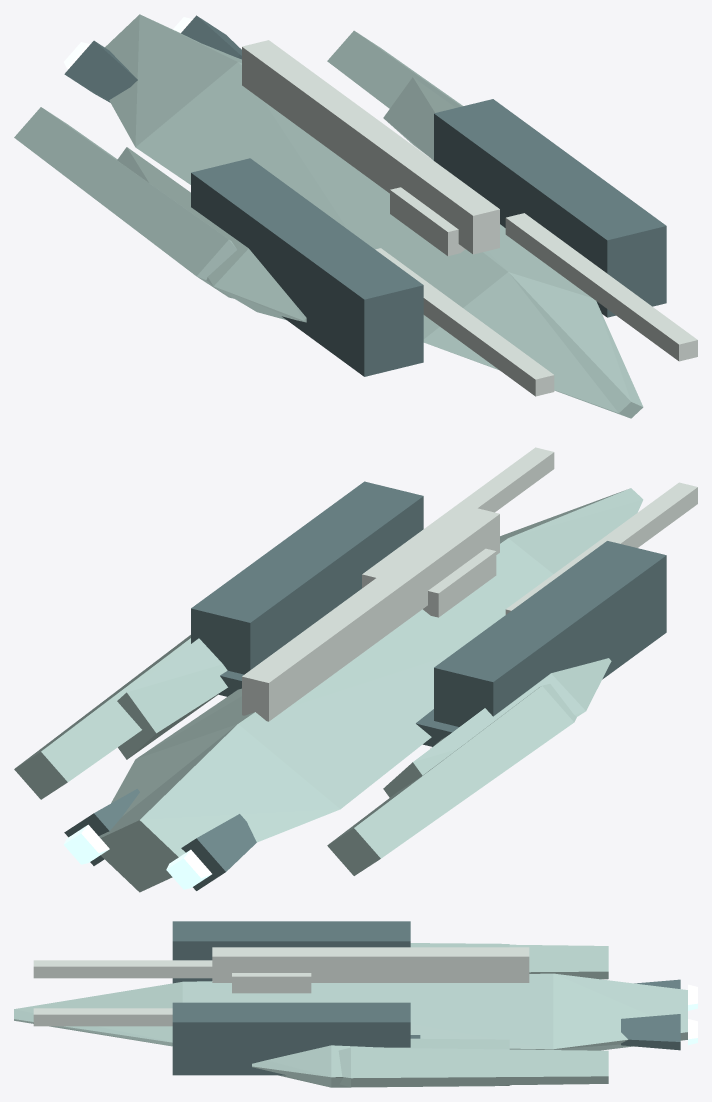
3 renders of one model, top to bottom at view 1: azimuth 30°, elevation 25°; view 2: azimuth 150°, elevation 25°; view 3: azimuth 270°, elevation 25°, orthographic. The views are drawn at different scales.
Size of the model in its own units: 2.72 by 1.05 by 6.21.
